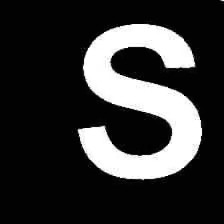LTR_S: (77, 16, 213, 185)
